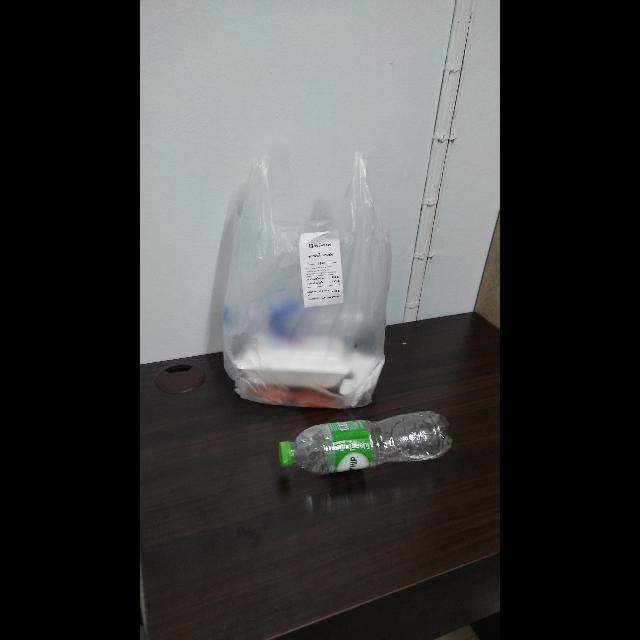plastic_bag: (218, 147, 398, 406)
plastic_bottle: (271, 408, 457, 484), (225, 298, 381, 346)
plastic_bottle_cap: (276, 441, 294, 467)
scrap_paper: (297, 230, 345, 310)
